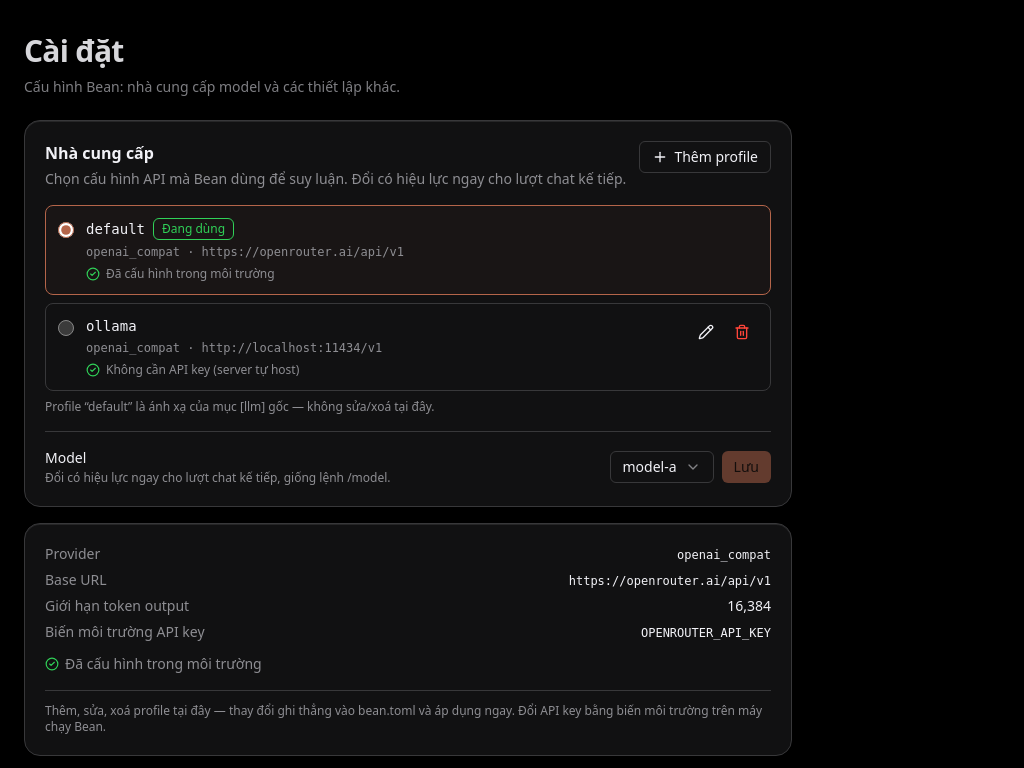
Test: SettingsPage — Providers CRUD › sửa profile: PUT đúng tên trên đường dẫn, body không có trường tên
This screenshot has width=1024, height=768.
Click the button named "Sửa profile" at x=706, y=332, box [690,316,722,348]
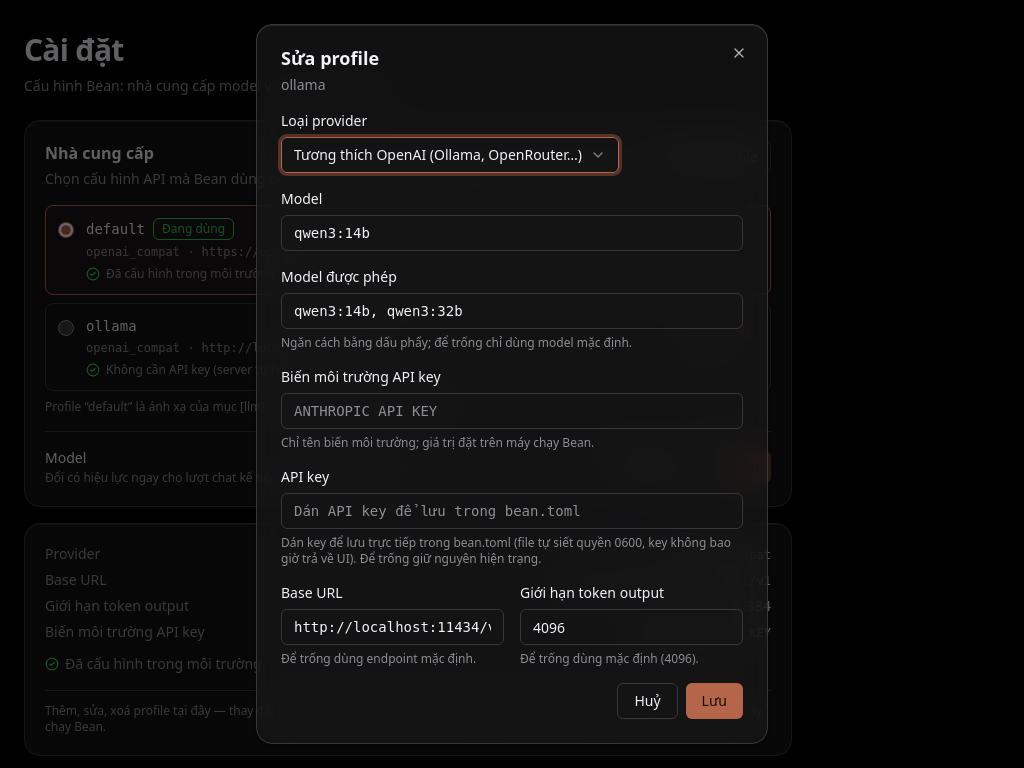
Replace the text in the field labelled "Model" with "qwen3:32b" at x=512, y=233, box [281,215,743,251]
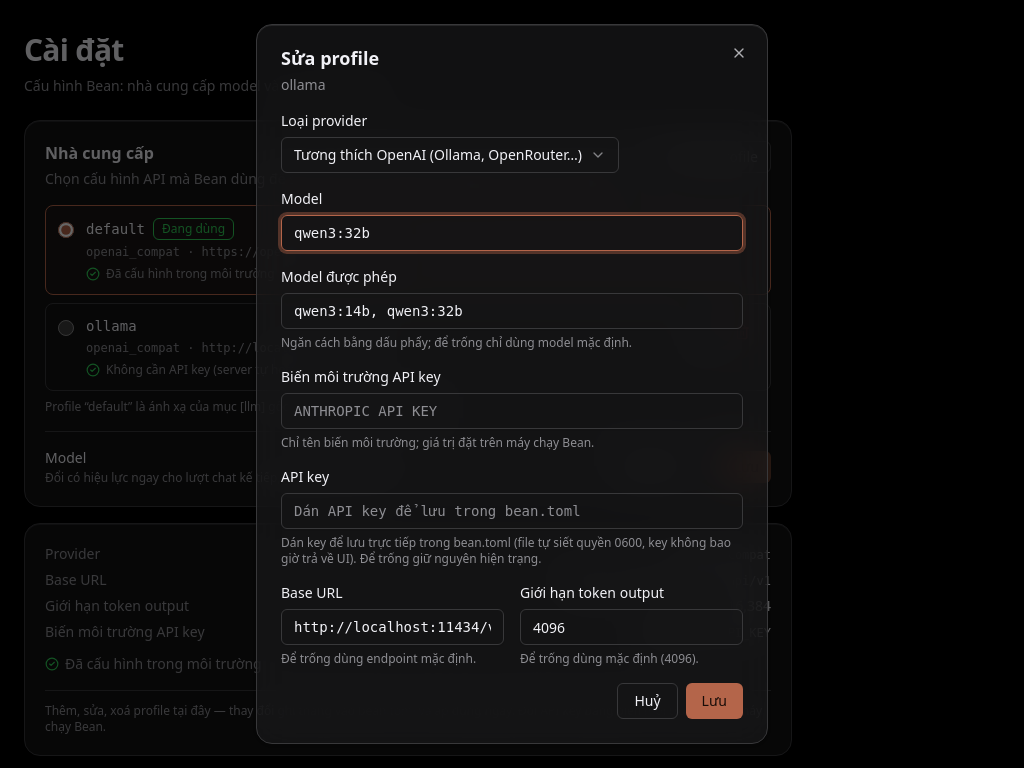
Click the button "Lưu" at x=714, y=701, box [686,683,743,719]
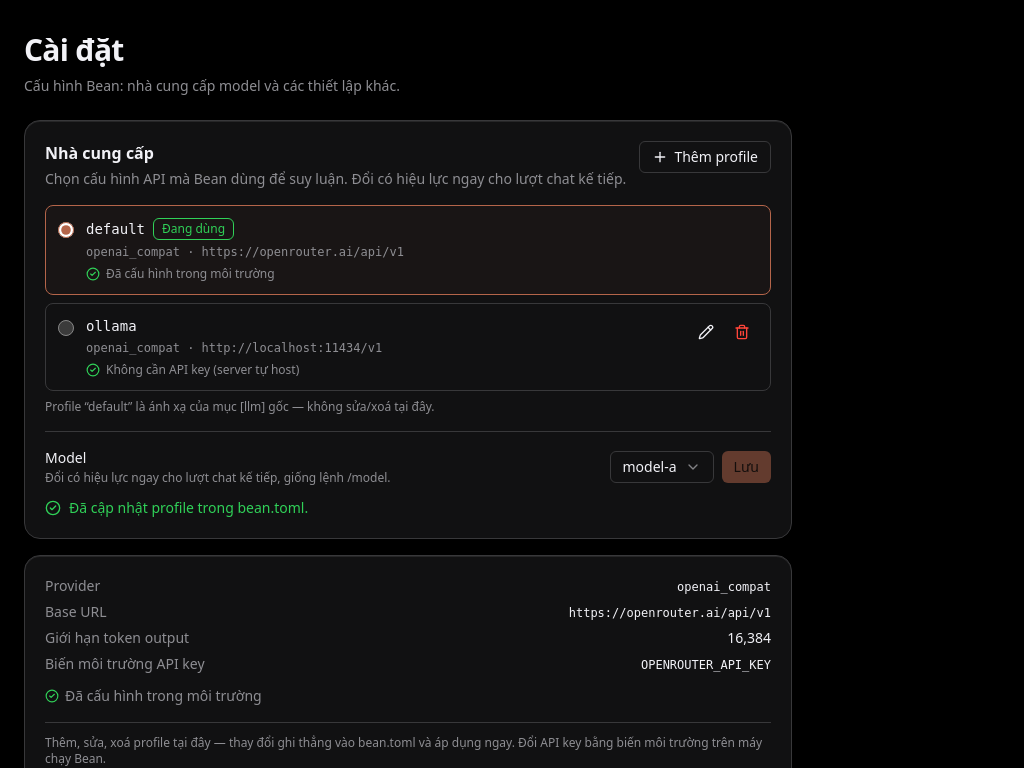
Expected: the text "ollama" is shown, [86,316,137,336]
Expected: the text "Đã cập nhật profile trong bean.toml." is shown, [45,498,308,517]
